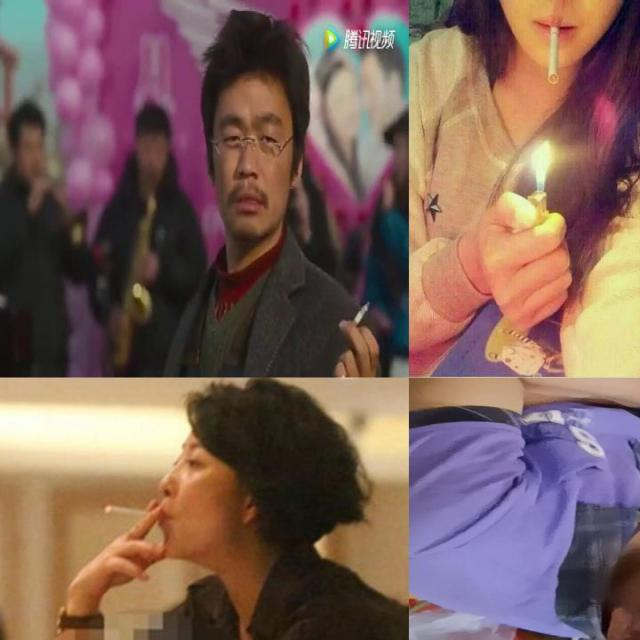smoking: (548, 25, 560, 85), (104, 503, 148, 519), (349, 300, 372, 330)
